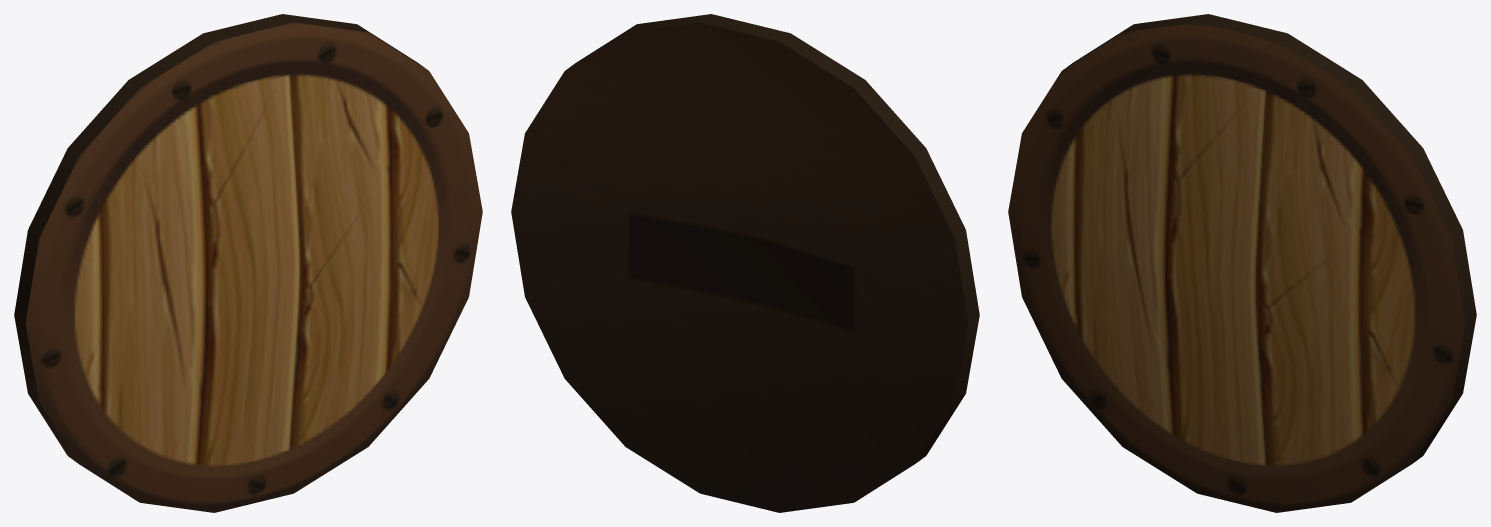
File: 101_lv1_shield.FBX
3 views of the same model, side by side, from view 1: azimuth 30°, elevation 25°; view 2: azimuth 150°, elevation 25°; view 3: azimuth 330°, elevation 25° (orthographic).
Parts seen in each view (by area): view 1: 101_lv1_shield; view 2: 101_lv1_shield; view 3: 101_lv1_shield.
Boxes of the visible parts, <box> form: 101_lv1_shield: <box>14,14,482,512</box>; 101_lv1_shield: <box>511,14,979,512</box>; 101_lv1_shield: <box>1008,14,1476,512</box>.
Size of the model in its own units: 41.2 by 40.58 by 4.21.
